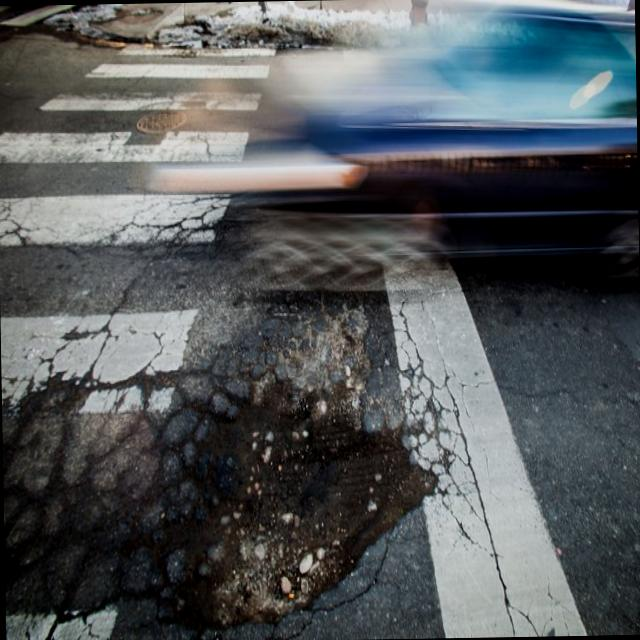bad-road: (140, 358, 444, 640), (5, 368, 141, 623)
